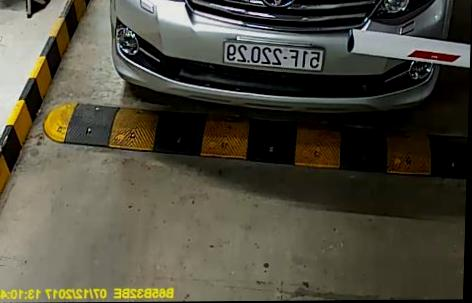License_Plate: (215, 41, 330, 73)
